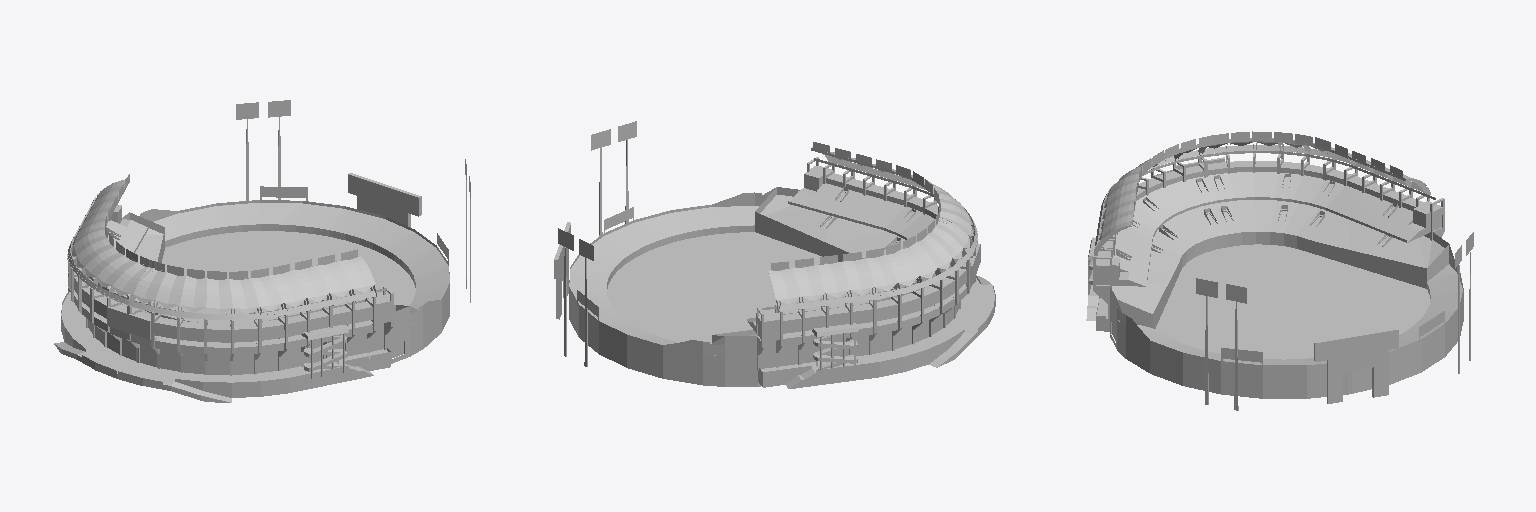
The model's file is clbf.obj.
3 views of the same model, side by side, from view 1: azimuth 30°, elevation 25°; view 2: azimuth 150°, elevation 25°; view 3: azimuth 270°, elevation 25° (orthographic).
Visible parts, largest first — view 1: skp5DFB_001; view 2: skp5DFB_001; view 3: skp5DFB_001, Component_013.
Boxes of the visible parts, box(x1,y1,x2,y2) form: skp5DFB_001: box(54, 100, 470, 402); skp5DFB_001: box(554, 121, 995, 388); skp5DFB_001: box(1086, 131, 1473, 410); Component_013: box(1093, 256, 1111, 318).
Bounding box in the file's own units: 225598 × 69453 × 196001.